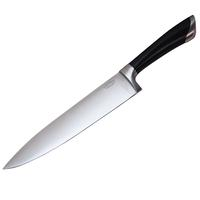knife: (2, 8, 195, 171)
